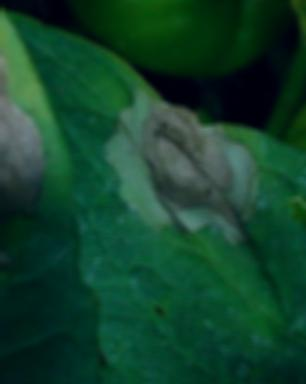Tomato leaf late blight: (33, 56, 306, 384)
